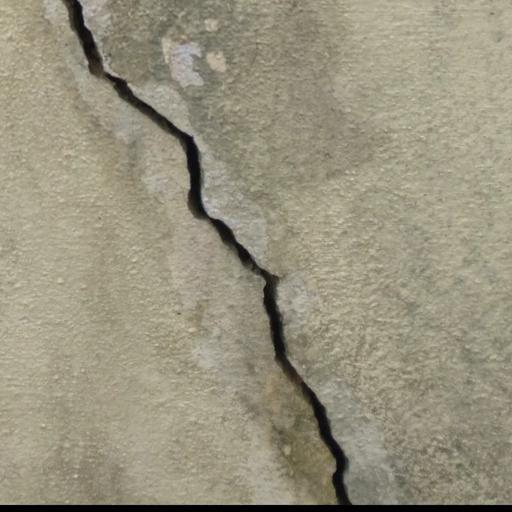major_crack: (51, 0, 367, 508)
